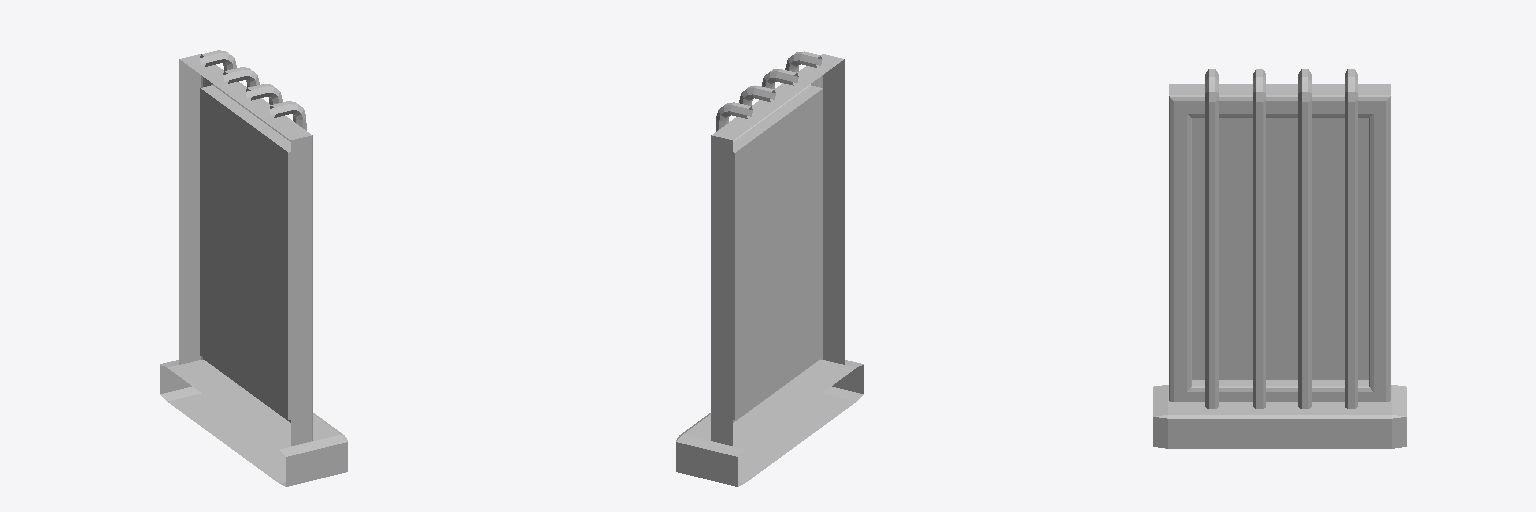
3 views of the same model, side by side, from view 1: azimuth 30°, elevation 25°; view 2: azimuth 150°, elevation 25°; view 3: azimuth 270°, elevation 25° (orthographic).
Parts seen in each view (by area): view 1: WindowGlass, WindowMetal, Windowsill, WindowBars; view 2: WindowGlass, WindowMetal, Windowsill, WindowBars; view 3: WindowGlass, WindowMetal, WindowBars, Windowsill.
Boxes of the visible parts, <box> form: WindowGlass: <box>200,88,287,418</box>; WindowMetal: <box>179,54,312,445</box>; Windowsill: <box>160,360,347,486</box>; WindowBars: <box>200,50,306,130</box>; WindowGlass: <box>735,89,822,419</box>; WindowMetal: <box>711,54,844,445</box>; Windowsill: <box>676,360,863,486</box>; WindowBars: <box>716,51,822,131</box>; WindowGlass: <box>1192,118,1368,379</box>; WindowMetal: <box>1169,84,1390,401</box>; WindowBars: <box>1205,69,1357,408</box>; Windowsill: <box>1153,385,1406,448</box>.
Bounding box in the file's own units: 1.44 × 7.46 × 4.79.